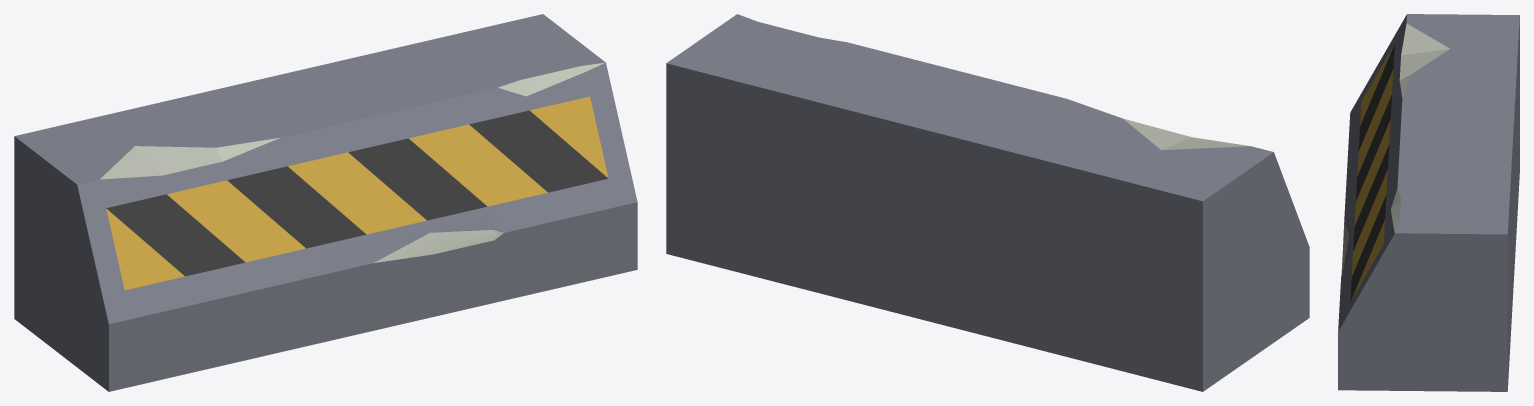
Rendered from jersey.glb.
The picture shows the model from 3 angles, left to right: view 1: azimuth 30°, elevation 25°; view 2: azimuth 150°, elevation 25°; view 3: azimuth 270°, elevation 25°; orthographic projection. The views are drawn at different scales.
Parts seen in each view (by area): view 1: Barrier_Single; view 2: Barrier_Single; view 3: Barrier_Single.
Boxes of the visible parts, <box> form: Barrier_Single: <box>14,14,637,391</box>; Barrier_Single: <box>666,14,1309,391</box>; Barrier_Single: <box>1338,14,1519,391</box>.
Size of the model in its own units: 1.89 by 0.6281 by 0.6569.
